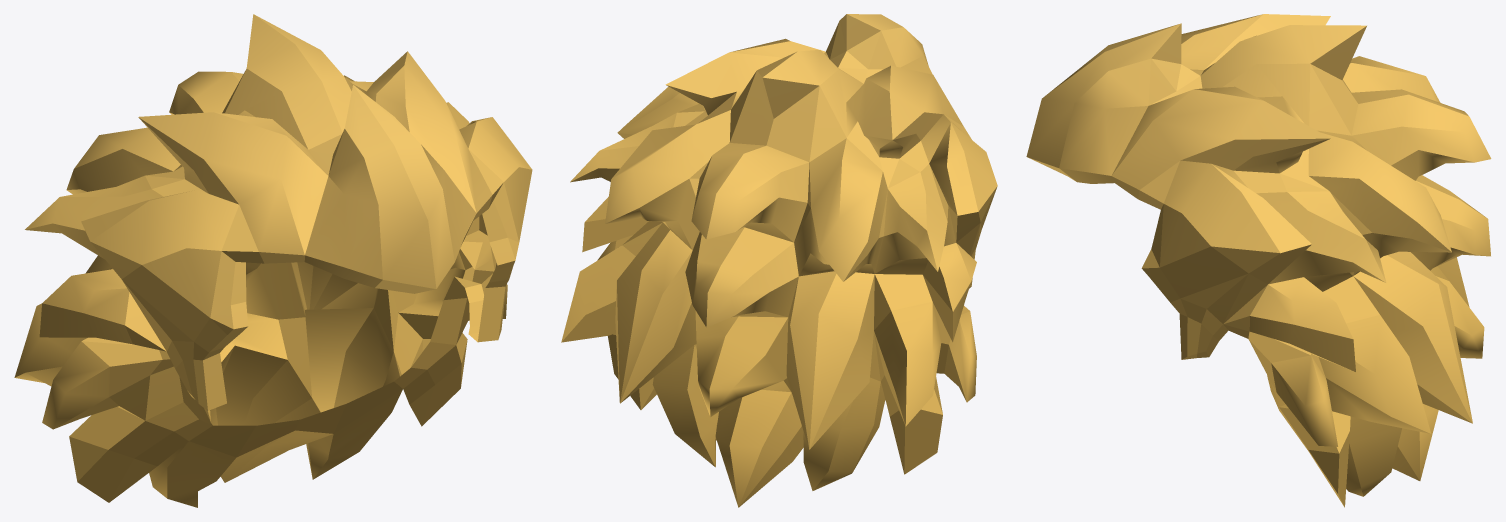
The model's file is Hair_Yellow_20.fbx.
The picture shows the model from 3 angles, left to right: view 1: azimuth 30°, elevation 25°; view 2: azimuth 150°, elevation 25°; view 3: azimuth 270°, elevation 25°; orthographic projection. The views are drawn at different scales.
Visible parts, largest first — view 1: Hair_Yellow_20; view 2: Hair_Yellow_20; view 3: Hair_Yellow_20.
Part boxes in pixels (box(x1,y1,x2,y2)): Hair_Yellow_20: box(14, 14, 532, 507); Hair_Yellow_20: box(561, 14, 997, 507); Hair_Yellow_20: box(1026, 14, 1491, 507).
Size of the model in its own units: 73.92 by 76.65 by 70.5.
